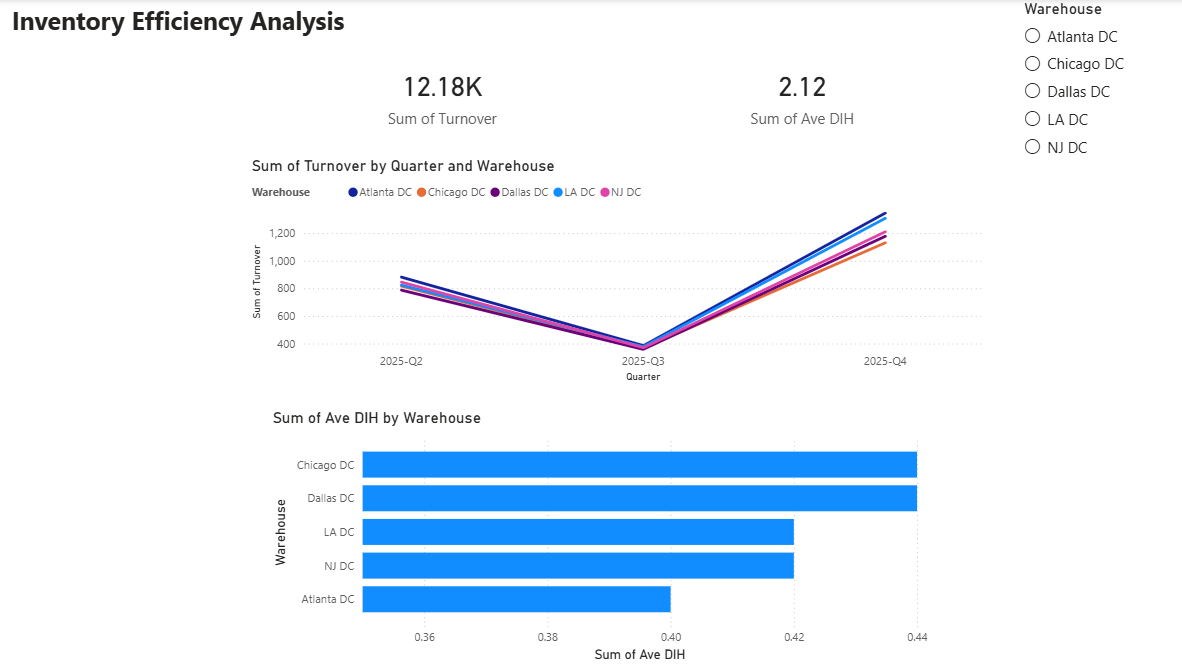

The dashboard page shown, as its layout file describes it:
{"tool":"powerbi","page":{"name":"Inventory Efficiency","canvas":[1280,720],"ordinal":3},"visuals":[{"type":"textbox","box":[9.8,0,716.6,61.1],"z":0},{"type":"lineChart","fields":{"Category":["Stockout_data1.Quarter      "],"Y":["Sum(Stockout_data1.Turnover)"],"Series":["Stockout_data1.Warehouse          "]},"box":[268.8,170,798.3,249.4],"z":1000},{"type":"barChart","fields":{"Y":["Sum(Stockout_data1.DIH)"],"Category":["Stockout_data1.Warehouse          "]},"box":[291.5,442,717.3,278.5],"z":2000},{"type":"card","fields":{"Values":["Sum(Stockout_data1.Turnover)"]},"box":[208.9,61.5,540.8,84.2],"z":3000},{"type":"card","fields":{"Values":["Sum(Stockout_data1.DIH)"]},"box":[618.5,40.5,498.7,126.3],"z":4000},{"type":"listSlicer","fields":{"Values":["Quarterly_Efficiency.Warehouse          "]},"box":[1102.7,0,178.1,270.4],"z":5000}]}

Visuals, with their boxes in screenshot pixels (x1, y1, x2, y2), scaled from the page's 1280x720 canvas onto the 1182x666 screenshot:
textbox: region(9, 0, 671, 57)
lineChart - Stockout_data1.Quarter       x Sum(Stockout_data1.Turnover): region(248, 157, 985, 388)
barChart - Sum(Stockout_data1.DIH) x Stockout_data1.Warehouse          : region(269, 409, 932, 665)
card - Sum(Stockout_data1.Turnover): region(193, 57, 692, 135)
card - Sum(Stockout_data1.DIH): region(571, 37, 1032, 154)
listSlicer - Quarterly_Efficiency.Warehouse          : region(1018, 0, 1181, 250)
